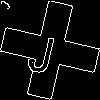J: (25, 25, 60, 75)
